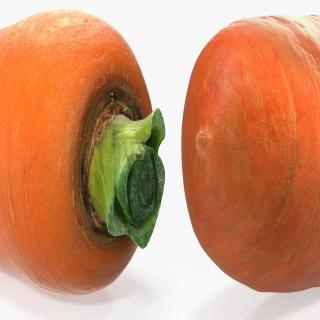carrot: (0, 8, 167, 292)
